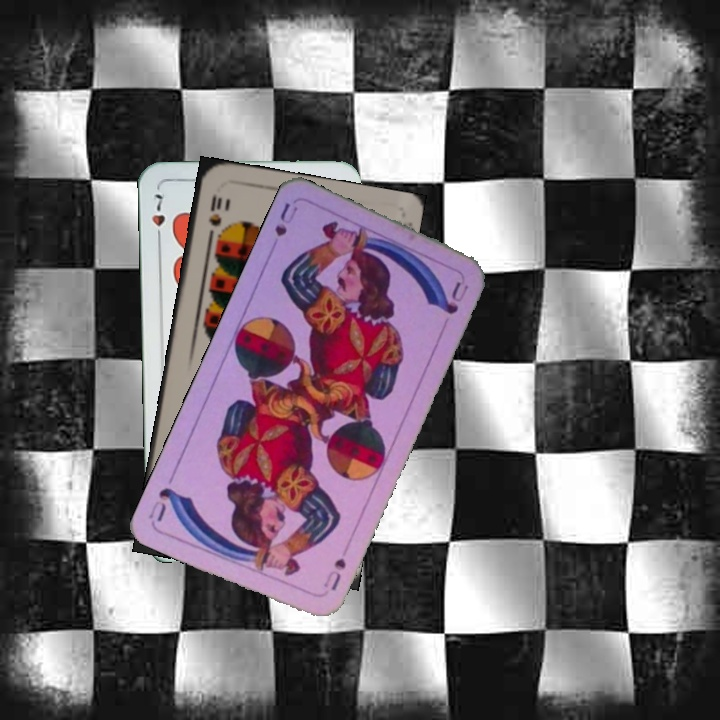H7: (147, 190, 167, 246)
S10: (204, 190, 225, 243)
SU: (270, 199, 302, 239), (318, 553, 349, 593)
